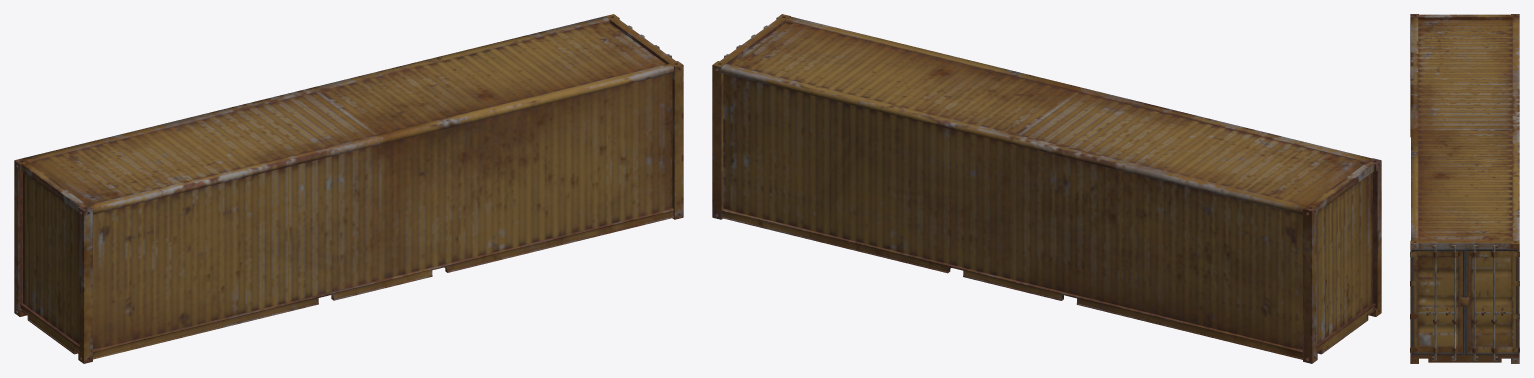
File: container_40_teal.glb
3 views of the same model, side by side, from view 1: azimuth 30°, elevation 25°; view 2: azimuth 150°, elevation 25°; view 3: azimuth 270°, elevation 25° (orthographic). The views are drawn at different scales.
Parts seen in each view (by area): view 1: container_40_teal; view 2: container_40_teal; view 3: container_40_teal.
Boxes of the visible parts, x1=… form: container_40_teal: x1=14, y1=14, x2=683, y2=363; container_40_teal: x1=712, y1=14, x2=1381, y2=363; container_40_teal: x1=1410, y1=14, x2=1519, y2=363.
Bounding box in the file's own units: 12.19 × 2.95 × 2.45.
Materials: 1 (1 with a texture image).
